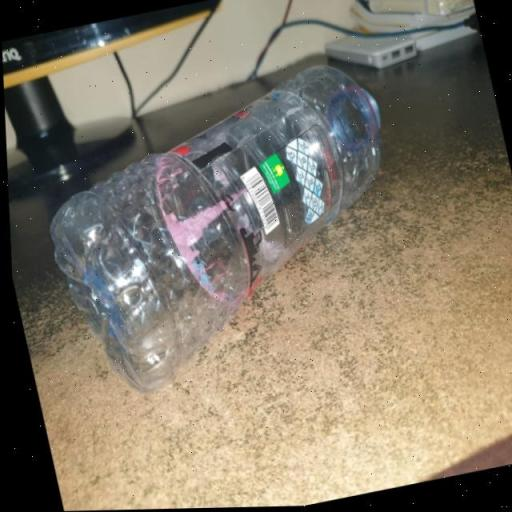plastic: (23, 50, 433, 400)
